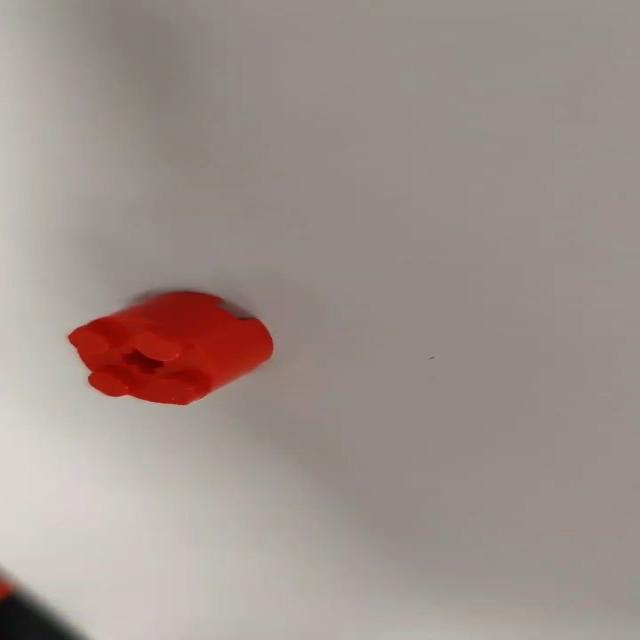S2x2x1: (58, 285, 283, 411)
